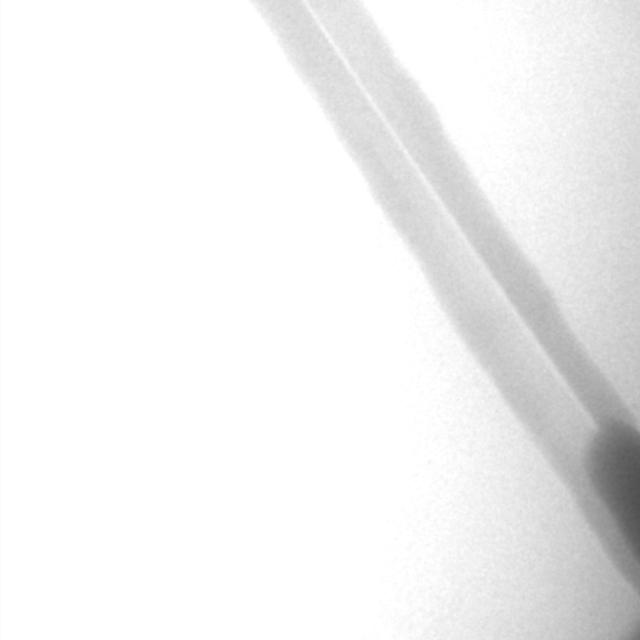broken arc: (307, 2, 597, 428)
